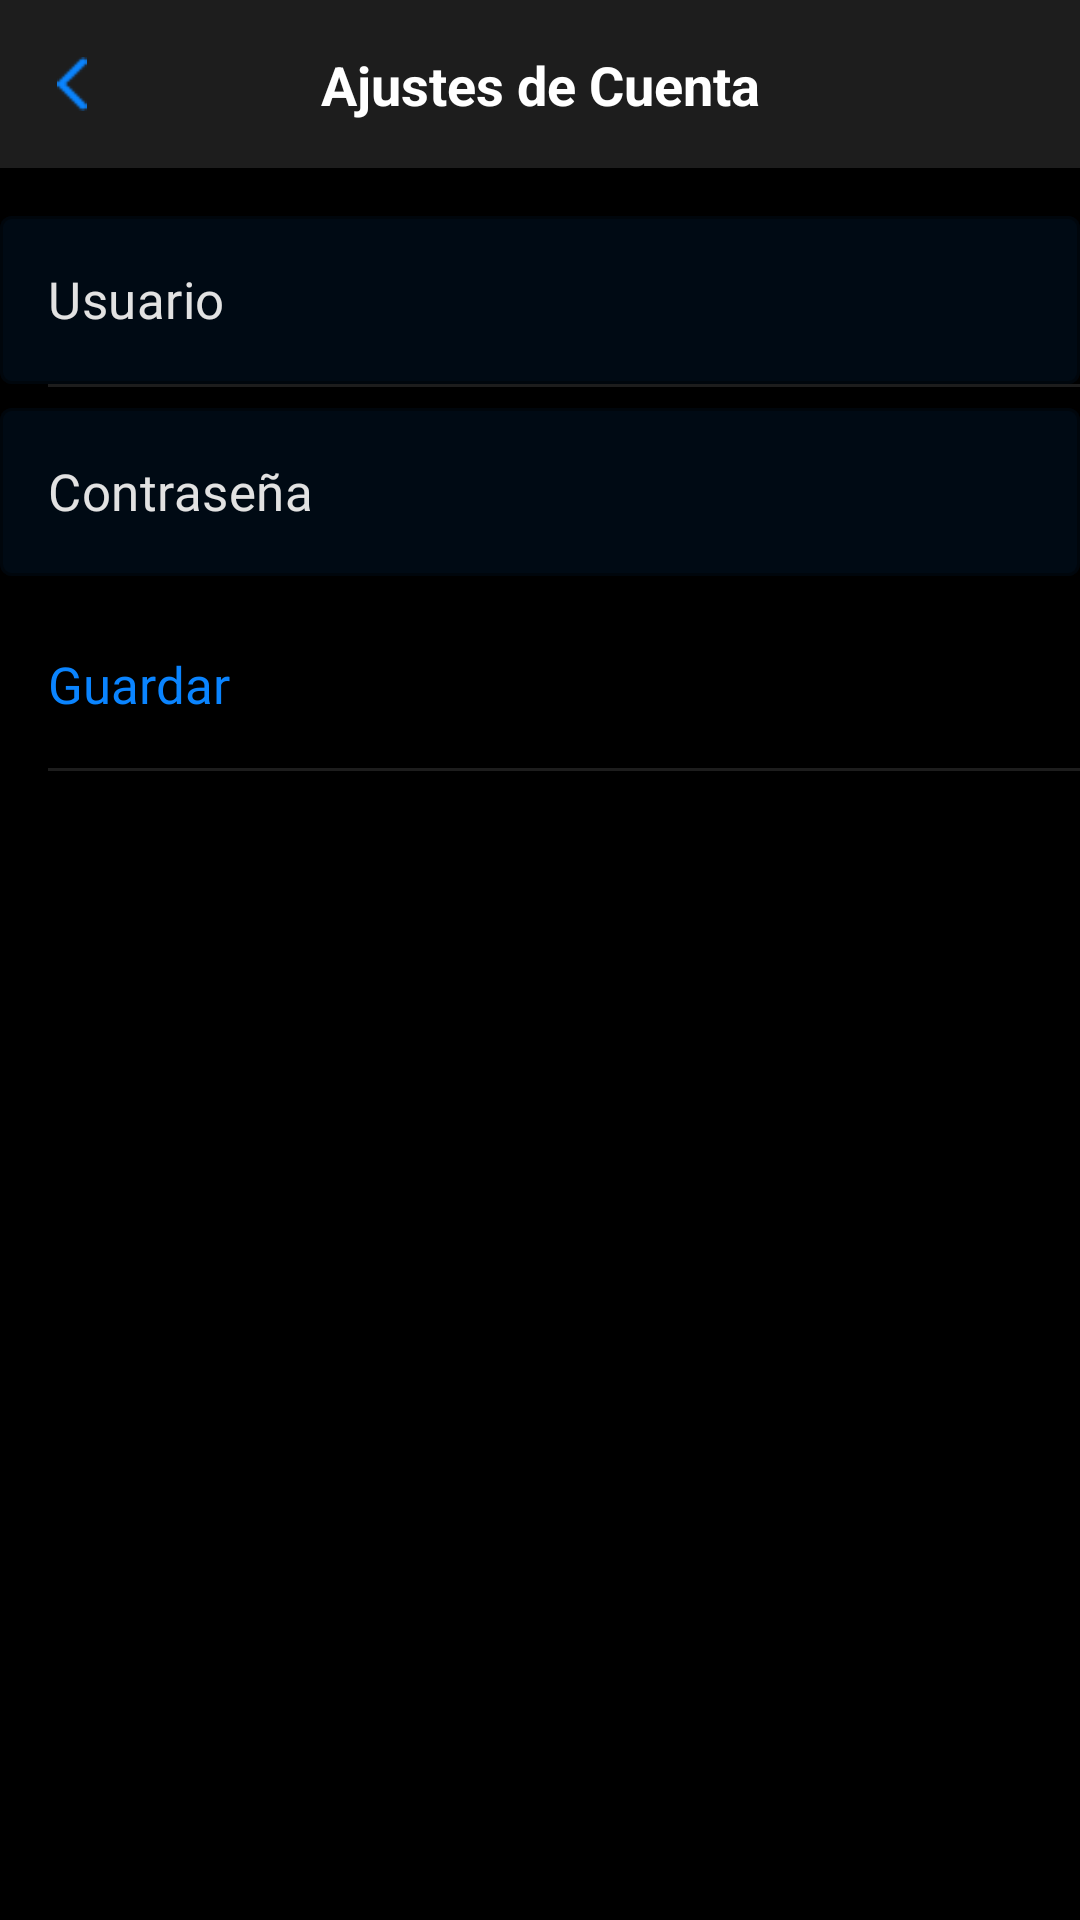

Where to tap for icons on this 1080*1920 app screen, as (x,y):
chevron left: (72,84)
